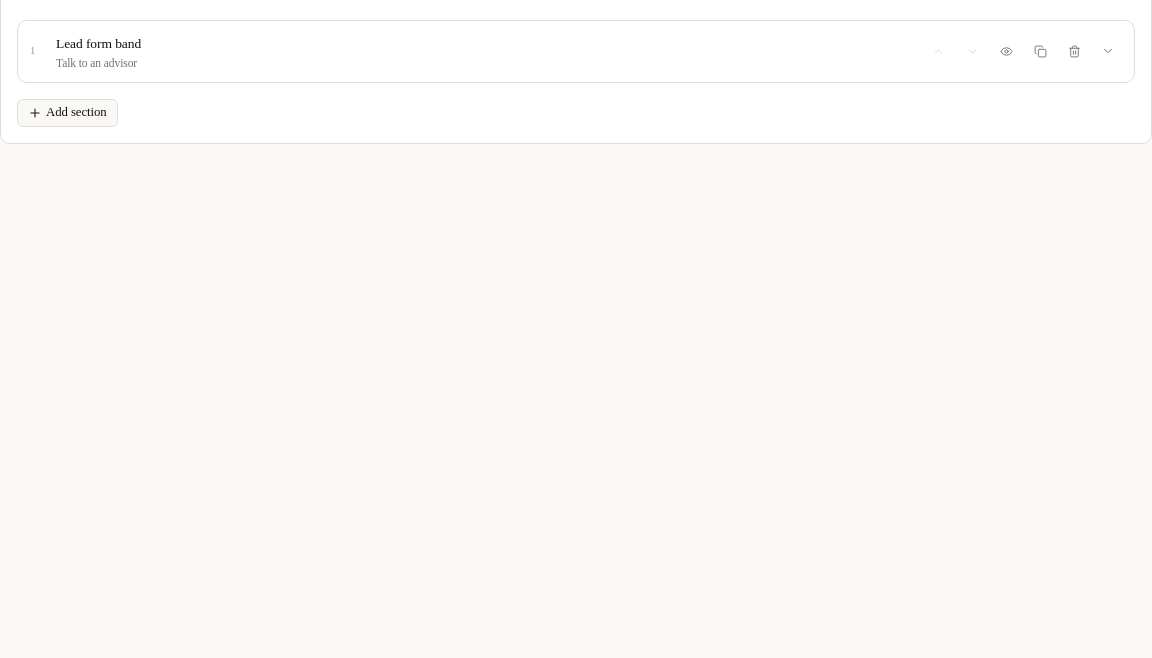
BlockEditor — form picker preview › follows the picker when a different form is chosen
Click the button named "Expand" at [1108, 51], box [1094, 37, 1122, 65]
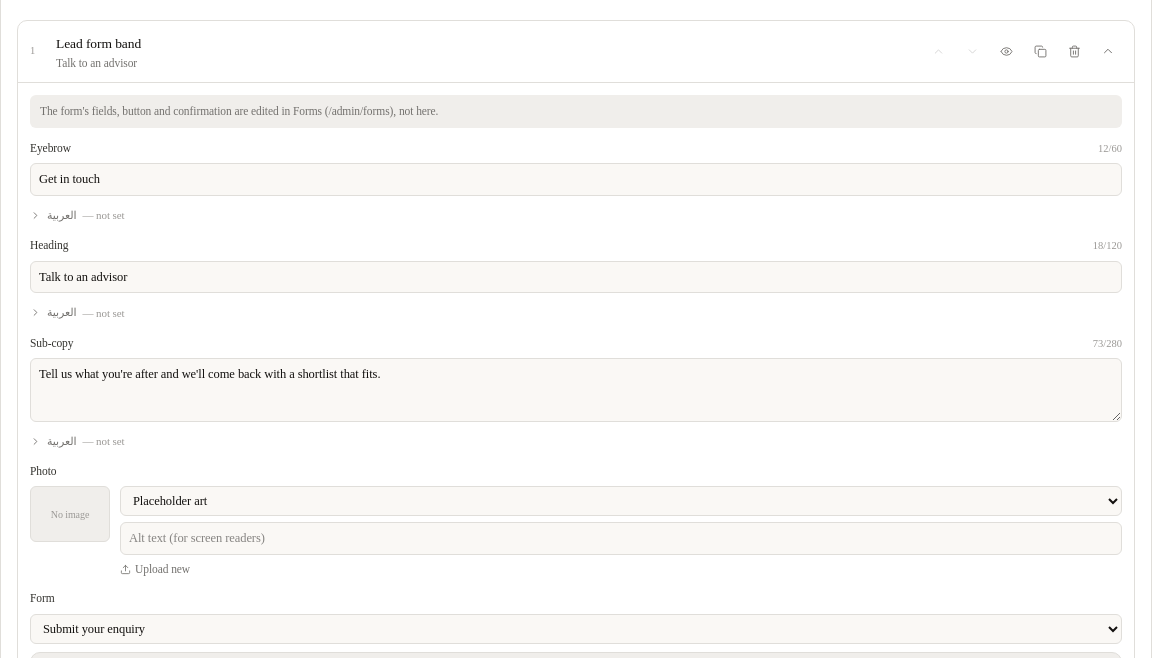
Select "Rent a property" in the 2nd dropdown at [576, 628], box [30, 614, 1122, 644]
(page scrolled)
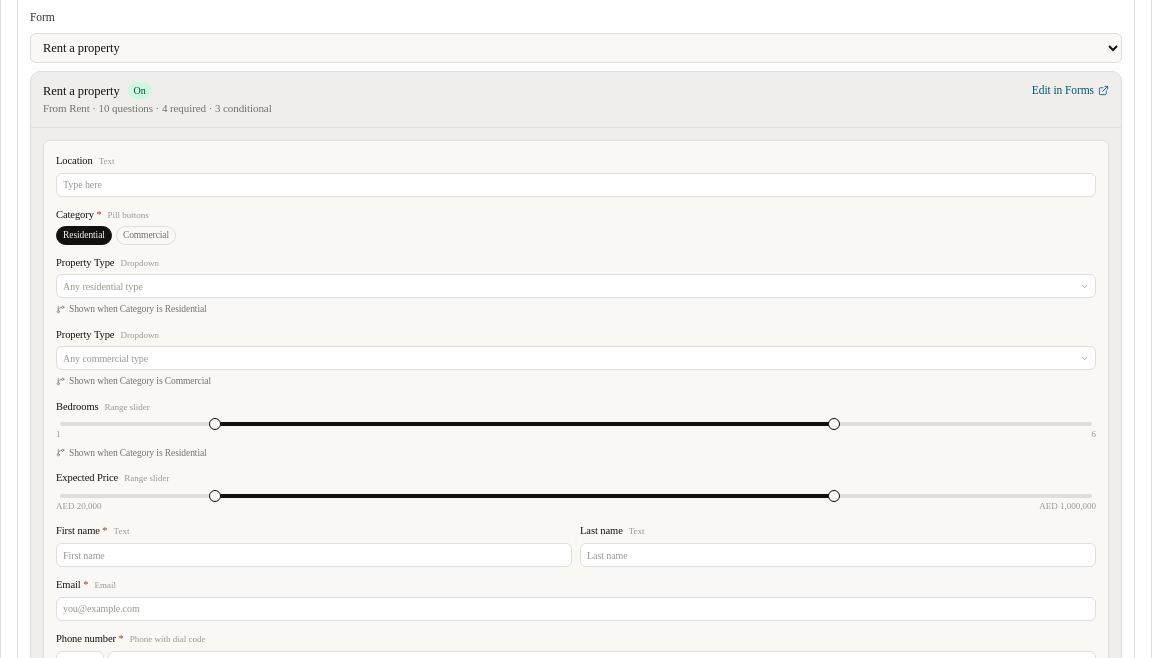
Result: the text "Shown when Category is Residential" below "Any residential type" is shown at [69, 304, 207, 314]
